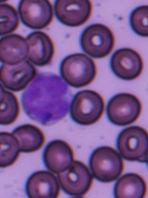M: (22, 70, 72, 124)
